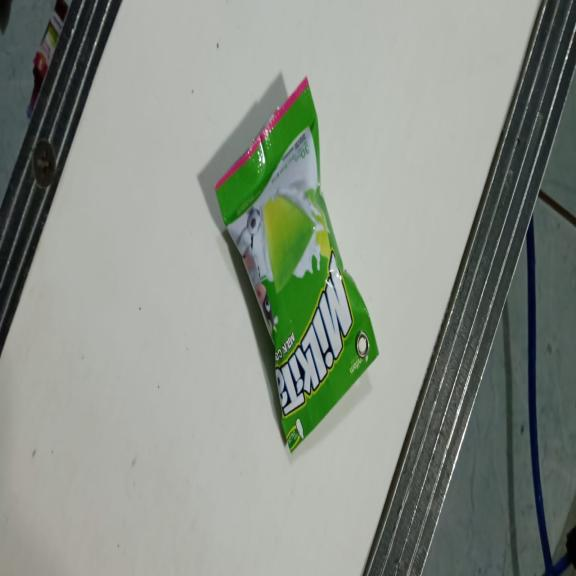Plastik: (215, 77, 380, 456)
